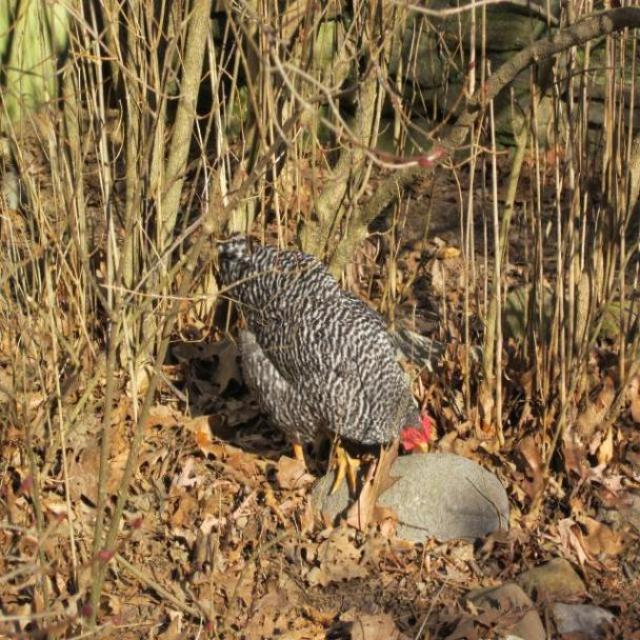Chicken: (213, 230, 434, 493)
